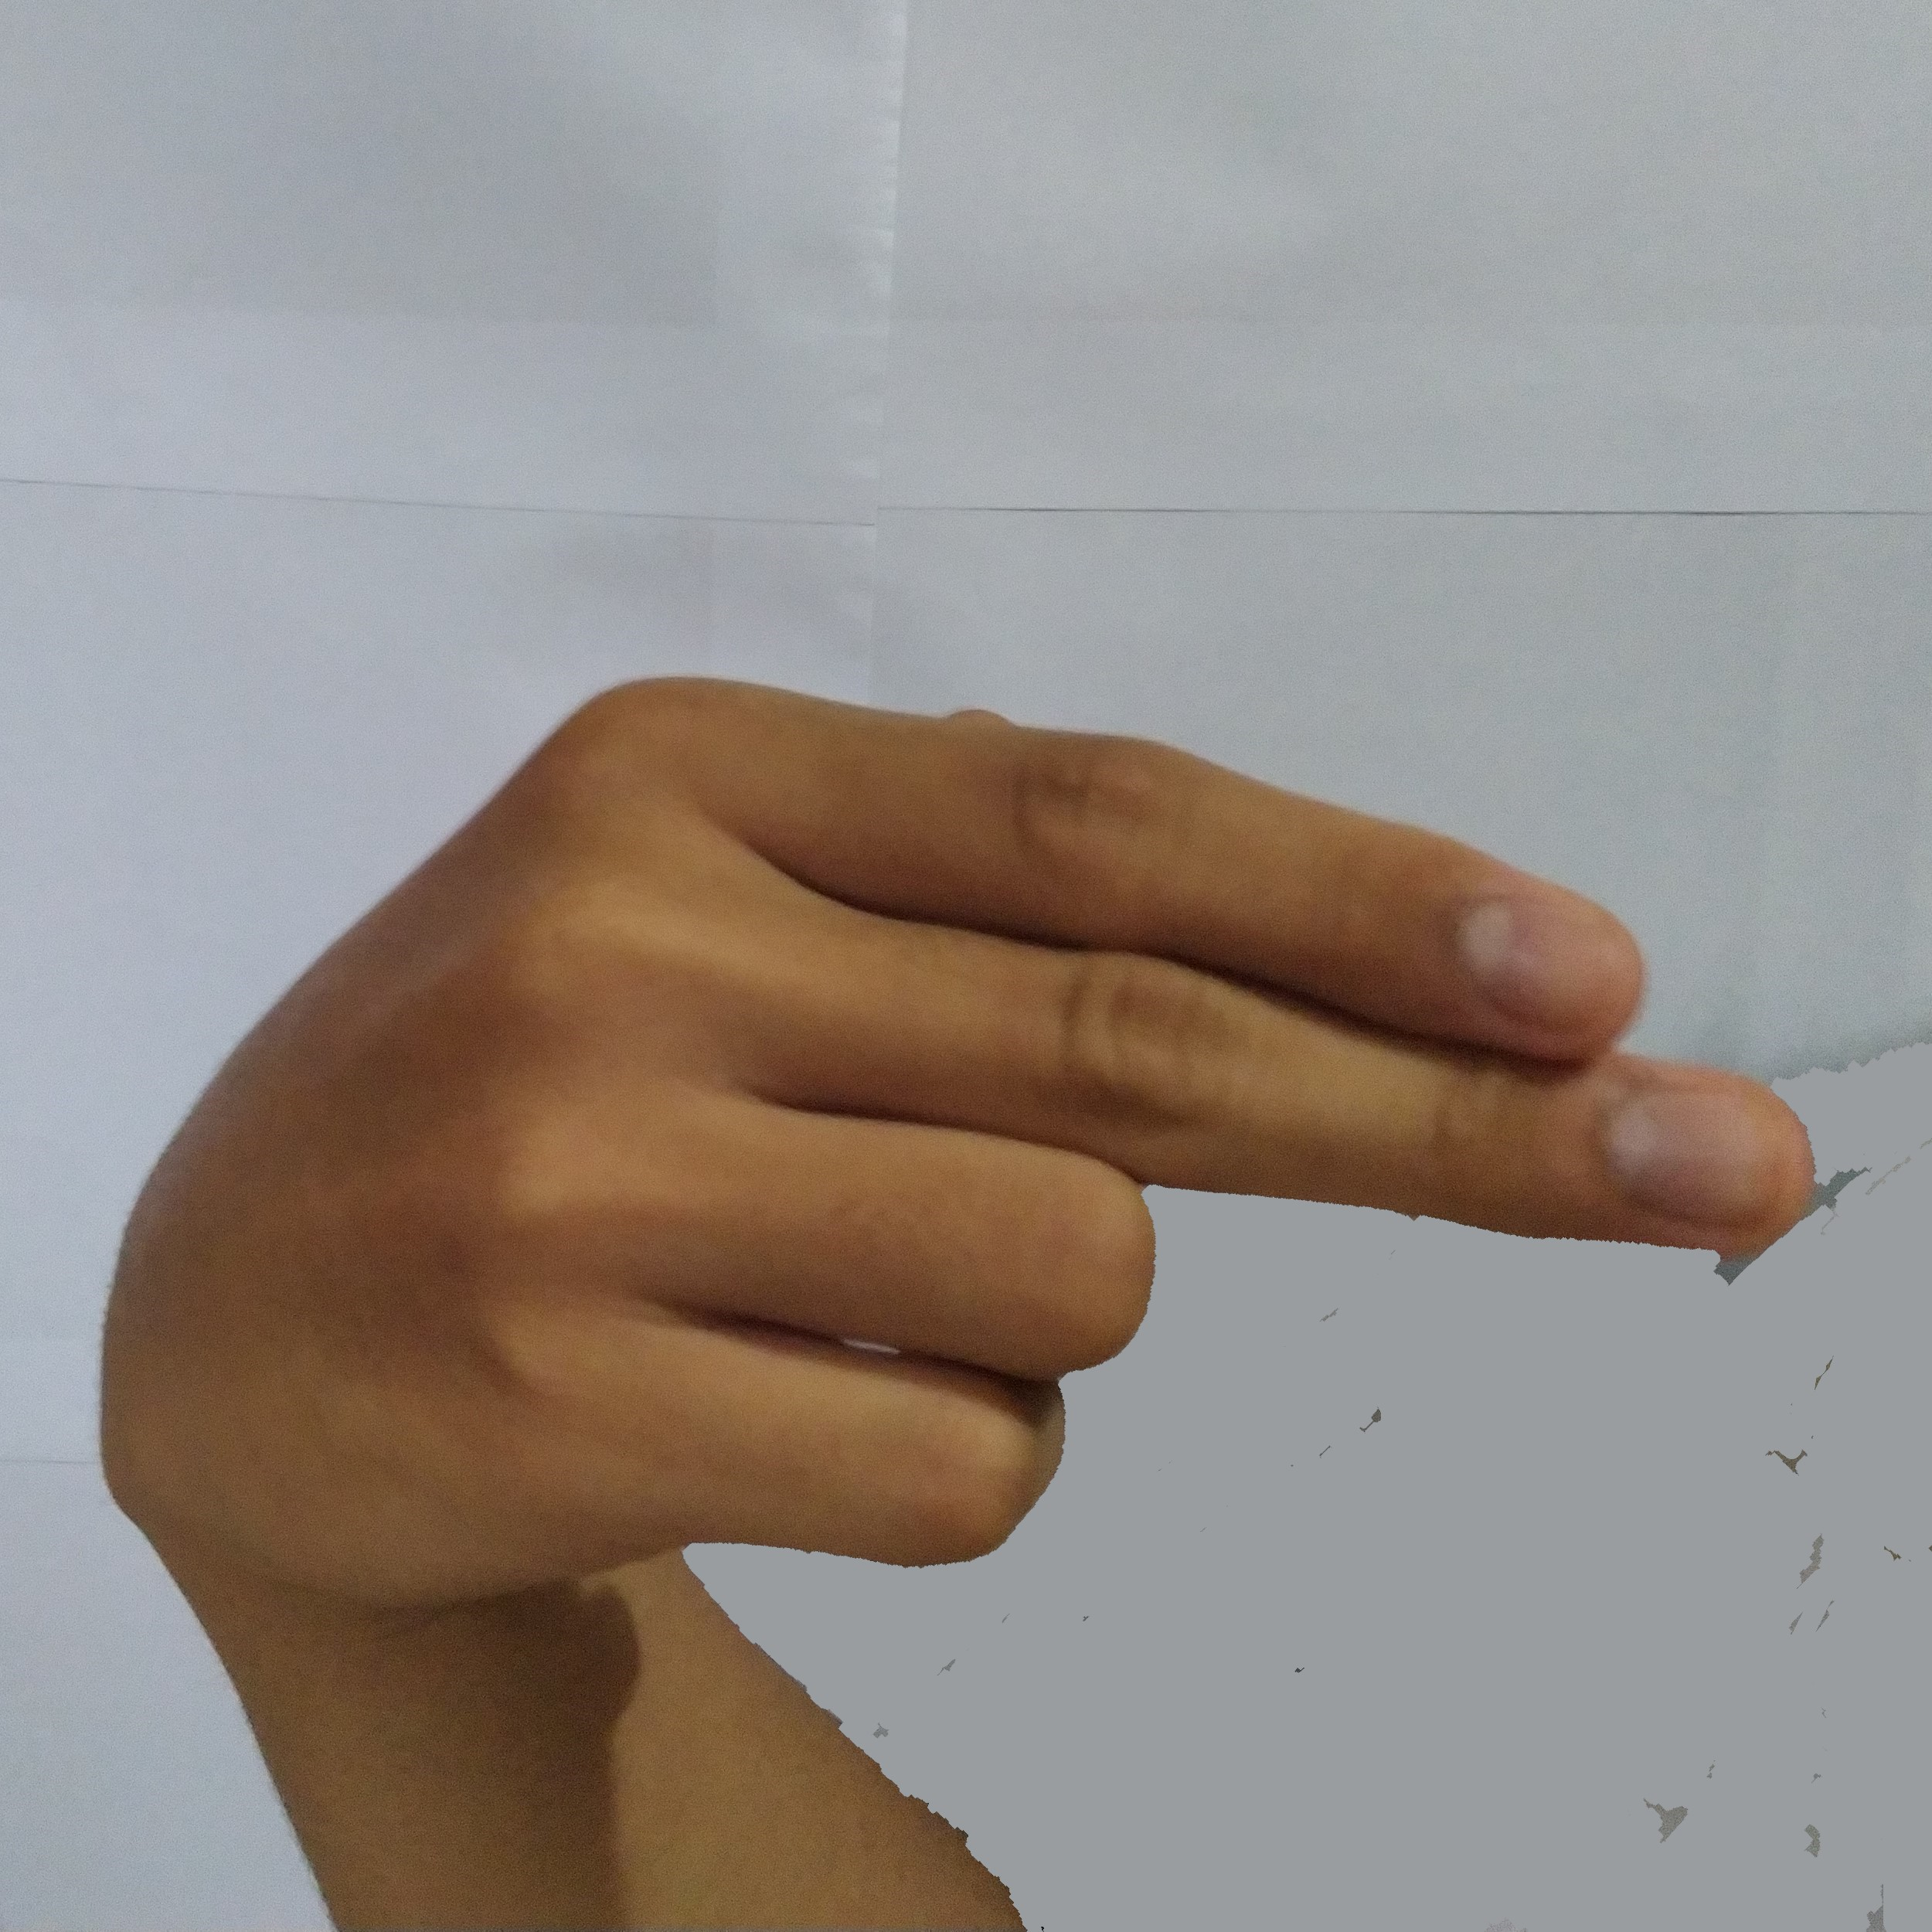H: (97, 656, 1835, 1617)
